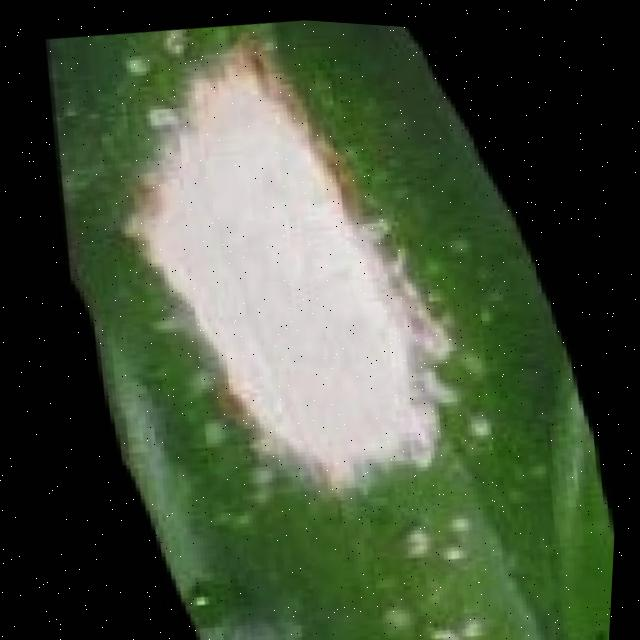mite: (104, 25, 195, 83), (181, 565, 257, 626), (116, 25, 194, 78), (113, 40, 160, 82), (182, 572, 224, 611), (576, 600, 617, 635), (201, 410, 235, 444), (159, 25, 189, 55), (585, 608, 617, 634), (122, 48, 151, 74), (191, 584, 216, 606), (594, 616, 615, 634)
spots: (42, 16, 624, 640)
sunburn: (97, 19, 479, 516)
